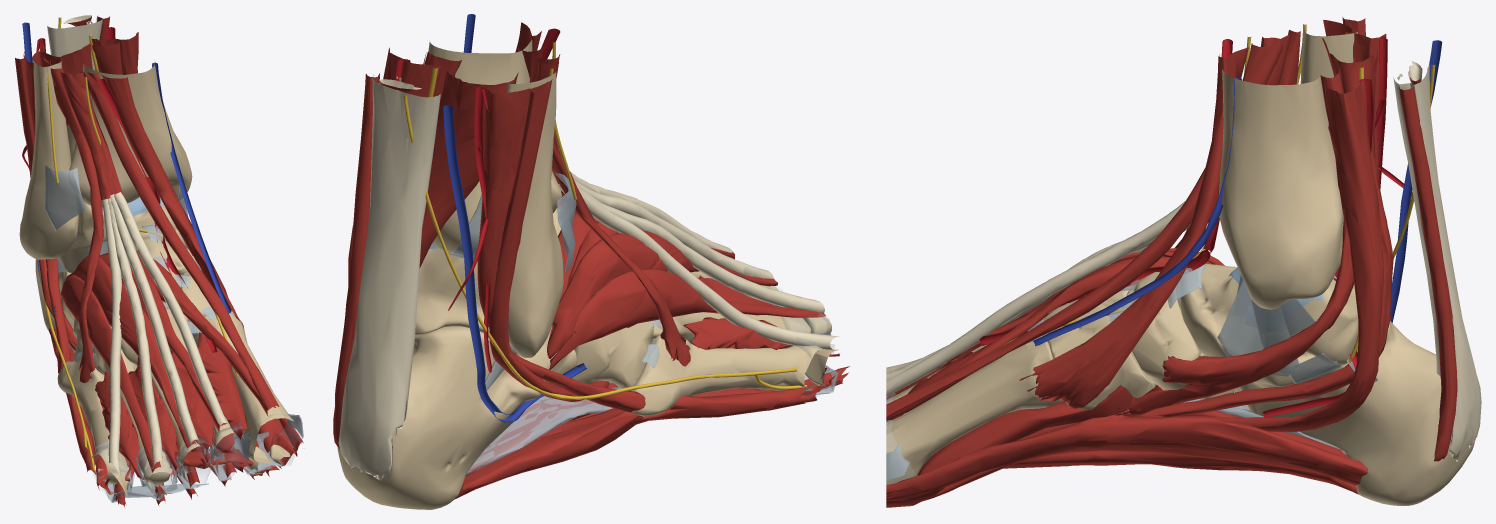
The model's file is joint-ankle.b2f7a163.glb.
The picture shows the model from 3 angles, left to right: view 1: azimuth 30°, elevation 25°; view 2: azimuth 150°, elevation 25°; view 3: azimuth 270°, elevation 25°; orthographic projection. The views are drawn at different scales.
Visible parts, largest first — view 1: Tendon_TendonOfExtensorDigitorumLongus_Right, Muscle_ExtensorDigitorumBrevis_Right, Muscle_DorsalInterosseiMusclesOfFoot_Right, Bone_Fibula_Right, Bone_Tibia_Right, Muscle_ExtensorHallucisLongus_Right, Muscle_TibialisAnteriorMuscle_Right, Capsule_ArticularCapsulesOfMetatarsophalangealJoints_Right, Muscle_FibularisTertiusMuscle_Right, Muscle_ExtensorDigitorumLongus_Right, Bone_FifthMetatarsalBone_Right, Bone_FirstMetatarsalBone_Right (+33 smaller); view 2: Tendon_CalcanealTendon_Right, Bone_Calcaneus_Right, Muscle_ExtensorDigitorumBrevis_Right, Tendon_TendonOfExtensorDigitorumLongus_Right, Bone_Fibula_Right, Muscle_FibularisBrevisMuscle_Right, Muscle_AbductorDigitiMinimiOfFoot_Right, Bone_FifthMetatarsalBone_Right, Muscle_FibularisLongusMuscle_Right, Muscle_FlexorHallucisLongus_Right, Muscle_PlantarisMuscle_Right, Bone_Tibia_Right (+16 smaller); view 3: Bone_Tibia_Right, Bone_Calcaneus_Right, Muscle_AbductorHallucis_Right, Muscle_FlexorDigitorumLongus_Right, Muscle_TibialisAnteriorMuscle_Right, Bone_FirstMetatarsalBone_Right, Muscle_TibialisPosteriorMuscle_Right, Tendon_CalcanealTendon_Right, Muscle_ExtensorHallucisLongus_Right, Muscle_FlexorHallucisLongus_Right, Muscle_PlantarisMuscle_Right, Bone_Talus_Right (+21 smaller).
Part boxes in pixels (x1,y1,x2,y2): Tendon_TendonOfExtensorDigitorumLongus_Right: (102, 192, 227, 478); Muscle_ExtensorDigitorumBrevis_Right: (60, 254, 226, 472); Muscle_DorsalInterosseiMusclesOfFoot_Right: (95, 332, 248, 479); Bone_Fibula_Right: (19, 59, 78, 259); Bone_Tibia_Right: (67, 59, 192, 207); Muscle_ExtensorHallucisLongus_Right: (78, 69, 279, 410); Muscle_TibialisAnteriorMuscle_Right: (101, 74, 244, 332); Capsule_ArticularCapsulesOfMetatarsophalangealJoints_Right: (94, 414, 302, 501); Muscle_FibularisTertiusMuscle_Right: (50, 66, 103, 383); Muscle_ExtensorDigitorumLongus_Right: (60, 68, 123, 200); Bone_FifthMetatarsalBone_Right: (57, 354, 129, 484); Bone_FirstMetatarsalBone_Right: (194, 310, 293, 462); Tendon_CalcanealTendon_Right: (338, 76, 440, 480); Bone_Calcaneus_Right: (337, 326, 576, 509); Muscle_ExtensorDigitorumBrevis_Right: (547, 212, 825, 369); Tendon_TendonOfExtensorDigitorumLongus_Right: (558, 171, 839, 350); Bone_Fibula_Right: (497, 71, 563, 357); Muscle_FibularisBrevisMuscle_Right: (477, 79, 645, 412); Muscle_AbductorDigitiMinimiOfFoot_Right: (454, 367, 827, 499); Bone_FifthMetatarsalBone_Right: (629, 335, 825, 416); Muscle_FibularisLongusMuscle_Right: (489, 89, 609, 401); Muscle_FlexorHallucisLongus_Right: (419, 70, 518, 267); Muscle_PlantarisMuscle_Right: (333, 73, 379, 448); Bone_Tibia_Right: (428, 40, 561, 252); Bone_Tibia_Right: (1219, 69, 1343, 309); Bone_Calcaneus_Right: (1234, 321, 1475, 505); Muscle_AbductorHallucis_Right: (886, 415, 1367, 501); Muscle_FlexorDigitorumLongus_Right: (1173, 72, 1384, 431); Muscle_TibialisAnteriorMuscle_Right: (1019, 47, 1248, 408); Bone_FirstMetatarsalBone_Right: (886, 341, 1062, 484); Muscle_TibialisPosteriorMuscle_Right: (1121, 65, 1353, 415); Tendon_CalcanealTendon_Right: (1393, 61, 1481, 461); Muscle_ExtensorHallucisLongus_Right: (886, 41, 1283, 418); Muscle_FlexorHallucisLongus_Right: (891, 37, 1393, 507); Muscle_PlantarisMuscle_Right: (1399, 86, 1457, 461); Bone_Talus_Right: (1180, 263, 1358, 365).
Size of the model in its own units: 0.0885 by 0.1343 by 0.1643.
